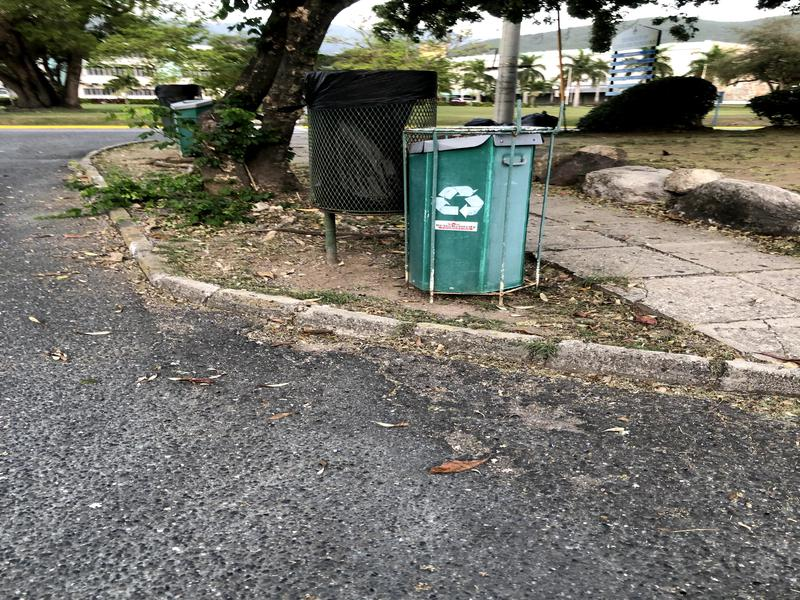18.0053245_-76.7486424_recyclebin: (394, 122, 566, 325)
